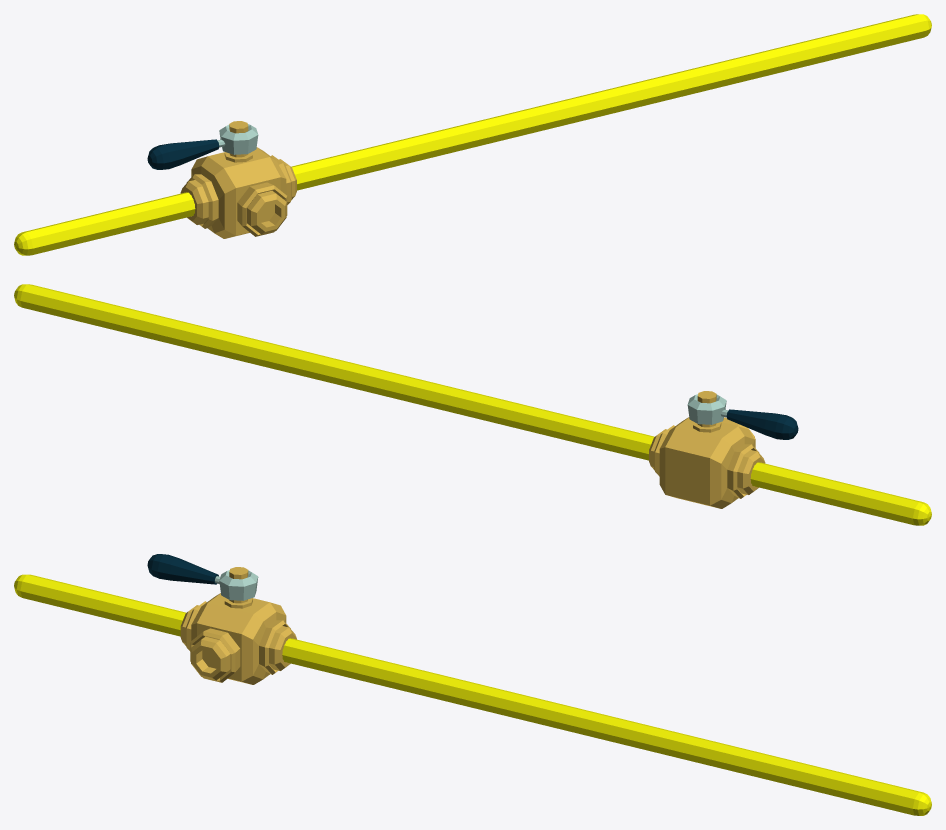
The model's file is pipe_edge_w_valve_b.glb.
3 views of the same model, one above another, from view 1: azimuth 30°, elevation 25°; view 2: azimuth 150°, elevation 25°; view 3: azimuth 330°, elevation 25° (orthographic).
Parts seen in each view (by area): view 1: valvePipe; view 2: valvePipe; view 3: valvePipe.
Part boxes in pixels (<box>): valvePipe: <box>14,14,931,255</box>; valvePipe: <box>14,284,931,525</box>; valvePipe: <box>14,554,931,815</box>.
Bounding box in the file's own units: 4.1 × 0.4399 × 0.4023.
